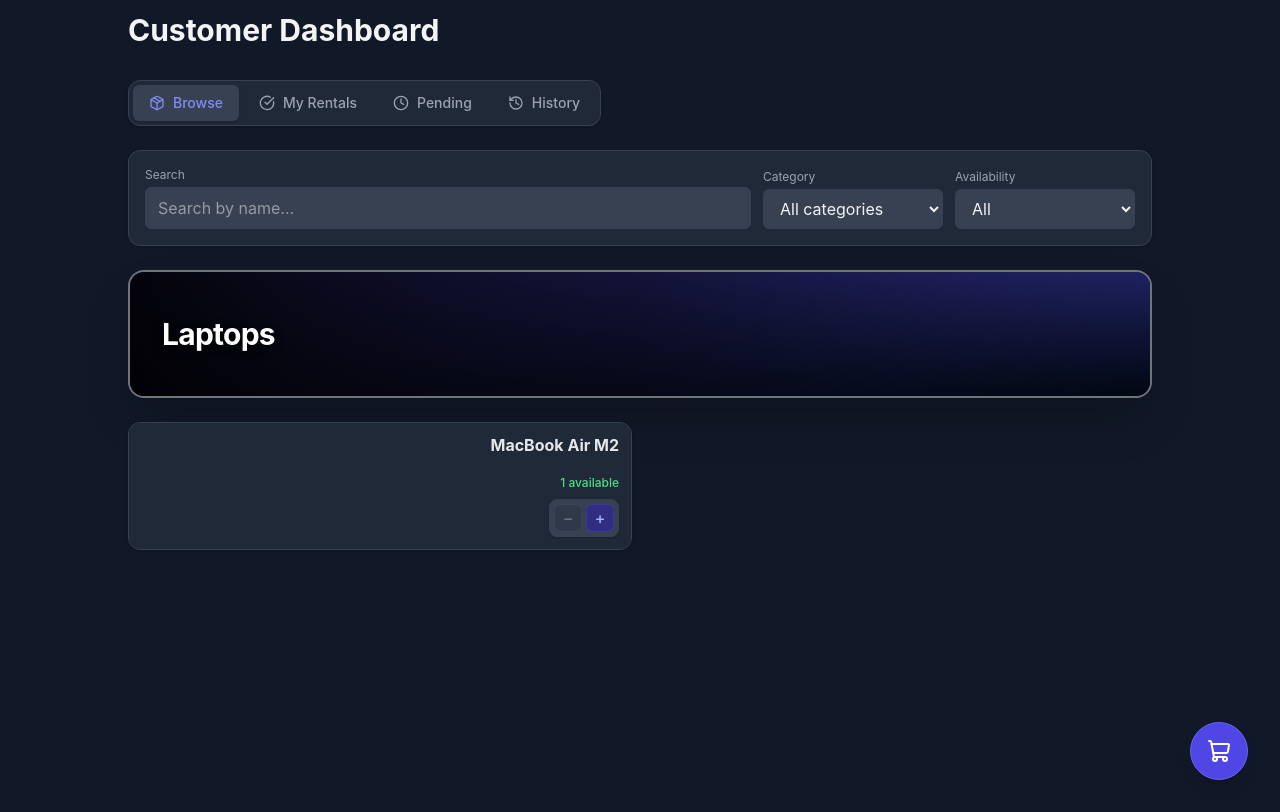
Scenario: CustomerDashboard — tab switching › switching to "Pending" hides the catalogue and shows the Pending tab
The width and height of the screenshot is (1280, 812).
Click the button "Pending" at (432, 103), box [377, 85, 488, 121]
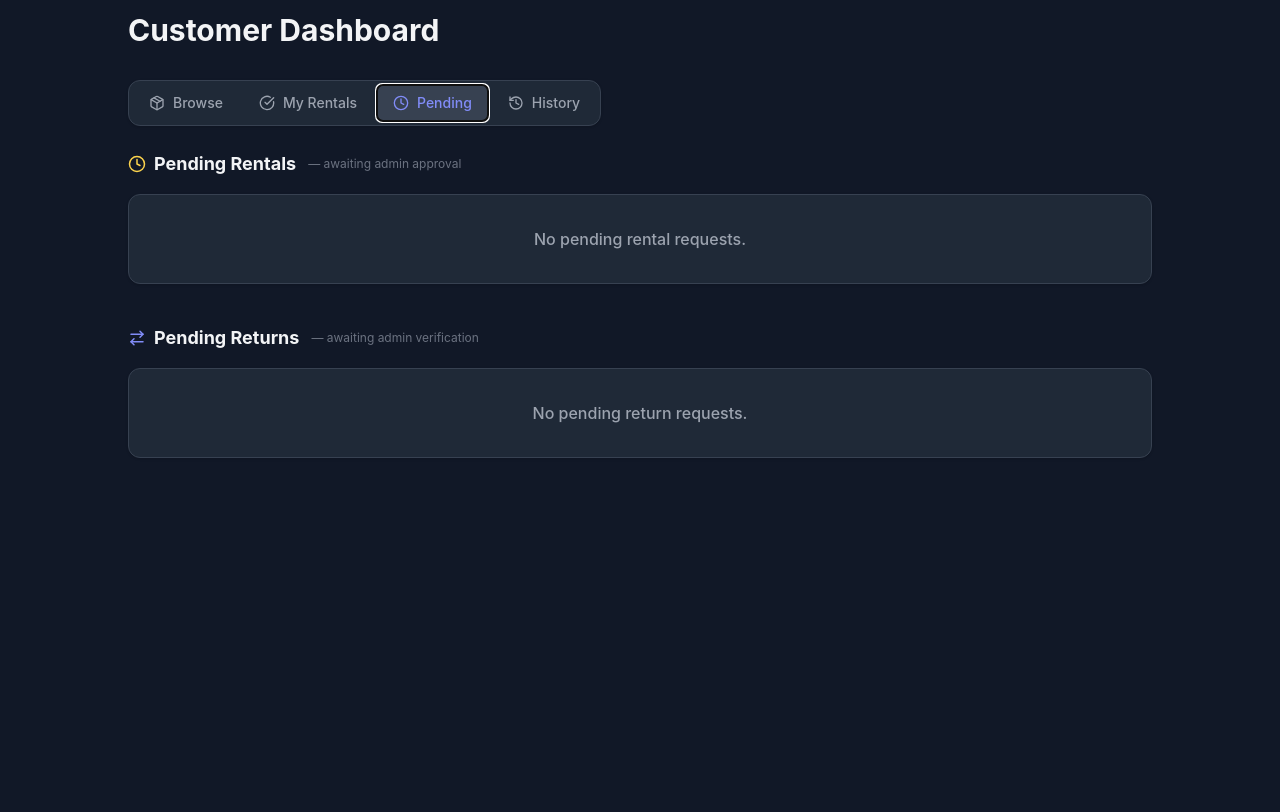
expect the heading "Laptops" is gone: met
expect the text "No pending rental requests." is shown: met, box [534, 227, 746, 251]
expect the text "No pending return requests." is shown: met, box [532, 401, 747, 425]
